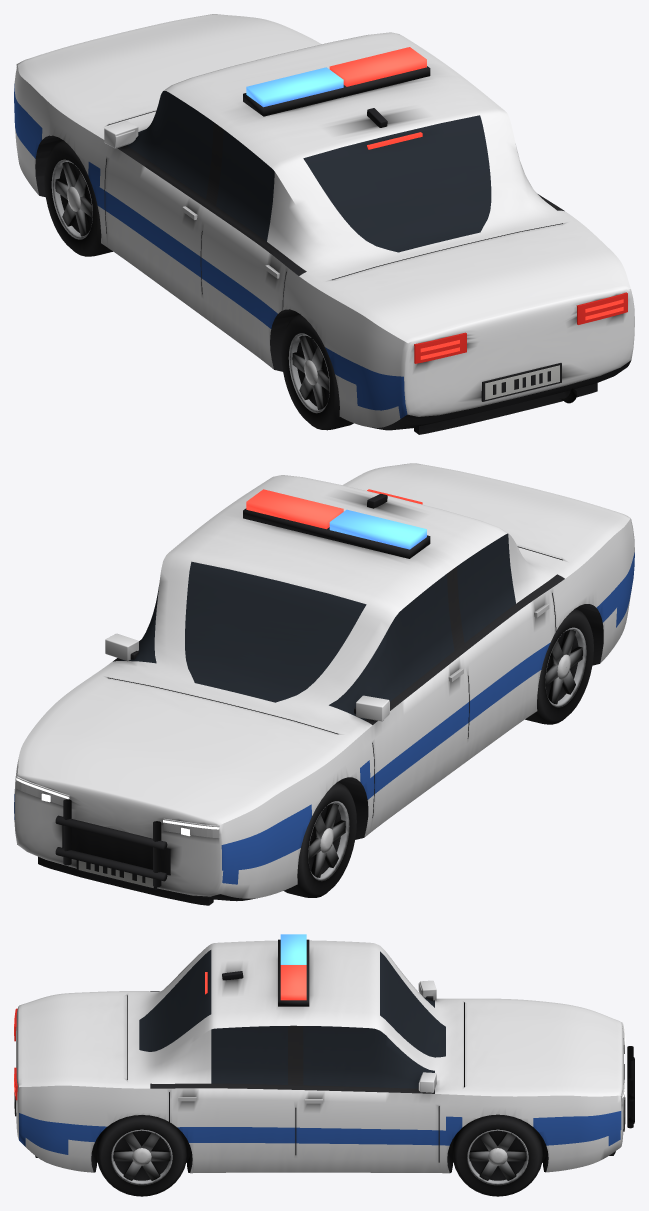
File: t_police.glb
3 renders of one model, top to bottom at view 1: azimuth 30°, elevation 25°; view 2: azimuth 150°, elevation 25°; view 3: azimuth 270°, elevation 25°, orthographic. The views are drawn at different scales.
Visible parts, largest first — view 1: Body, LightBar, Details, Wheel_RL, Wheel_FL, Rounded; view 2: Body, LightBar, Details, Wheel_FL, Wheel_RL, Rounded; view 3: Body, Wheel_FR, Wheel_RR, LightBar, Rounded, Details.
Part boxes in pixels (left/top/right/bottom): Body: left=14, top=14, right=634, bottom=430; LightBar: left=243, top=47, right=430, bottom=116; Details: left=16, top=63, right=627, bottom=434; Wheel_RL: left=281, top=314, right=353, bottom=430; Wheel_FL: left=44, top=140, right=112, bottom=256; Rounded: left=104, top=108, right=387, bottom=148; Body: left=14, top=463, right=634, bottom=901; LightBar: left=55, top=489, right=430, bottom=887; Details: left=16, top=489, right=549, bottom=905; Wheel_FL: left=283, top=782, right=356, bottom=897; Wheel_RL: left=525, top=608, right=593, bottom=724; Rounded: left=105, top=494, right=389, bottom=721; Body: left=16, top=940, right=623, bottom=1173; Wheel_FR: left=452, top=1114, right=543, bottom=1196; Wheel_RR: left=96, top=1115, right=187, bottom=1196; LightBar: left=278, top=934, right=634, bottom=1128; Rounded: left=222, top=971, right=436, bottom=1092; Details: left=14, top=972, right=625, bottom=1157.
Bounding box in the file's own units: 1.86 × 1.6 × 4.8.
